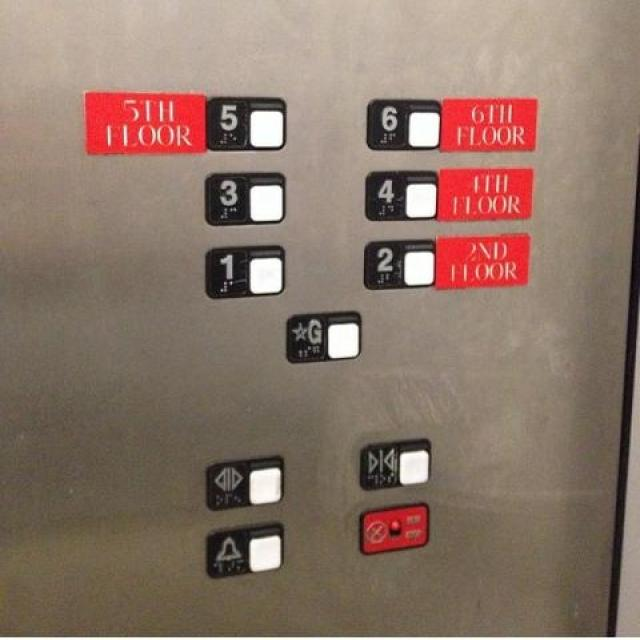1: (201, 240, 287, 300)
2: (359, 233, 437, 289)
3: (200, 165, 285, 228)
4: (360, 165, 439, 224)
5: (201, 92, 287, 152)
6: (363, 96, 441, 153)
alarm: (202, 518, 286, 578)
close: (353, 434, 431, 489)
open: (202, 451, 286, 511)
sG: (281, 305, 363, 363)
stop: (355, 496, 429, 556)
